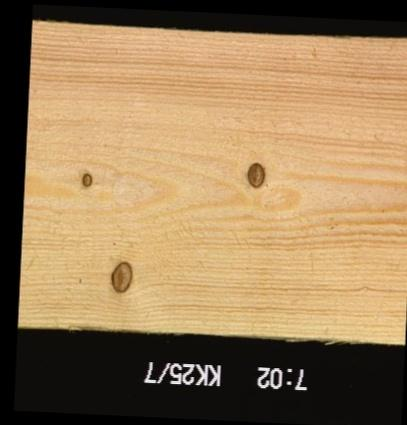dry_knot: (108, 259, 134, 295), (244, 160, 266, 189), (79, 171, 93, 189)
